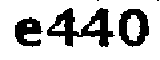0: (120, 7, 150, 51)
4: (81, 5, 115, 50), (46, 7, 82, 48)
e: (13, 17, 44, 49)
